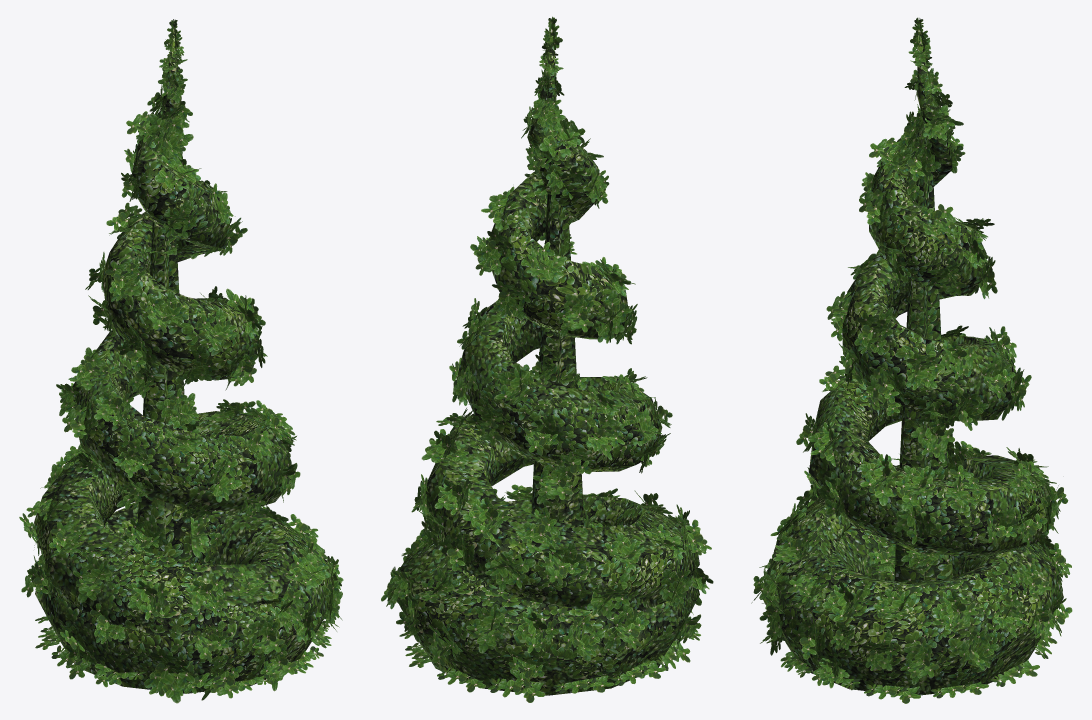
File: hedge_shape_E.FBX
The picture shows the model from 3 angles, left to right: view 1: azimuth 30°, elevation 25°; view 2: azimuth 150°, elevation 25°; view 3: azimuth 270°, elevation 25°; orthographic projection.
Parts seen in each view (by area): view 1: hedge_shape_E; view 2: hedge_shape_E; view 3: hedge_shape_E.
Boxes of the visible parts, x1,y1,x2,y2 form: hedge_shape_E: (19,19,343,703); hedge_shape_E: (381,16,713,702); hedge_shape_E: (751,17,1072,703).
Bounding box in the file's own units: 91.32 × 190 × 91.12.
